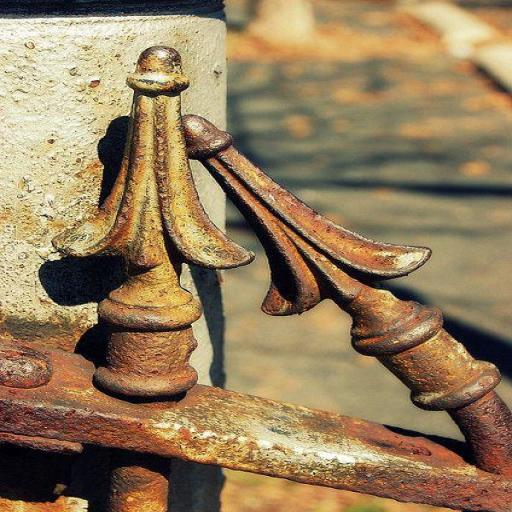corrosion: (8, 37, 314, 421), (4, 317, 91, 352), (106, 466, 168, 511)
